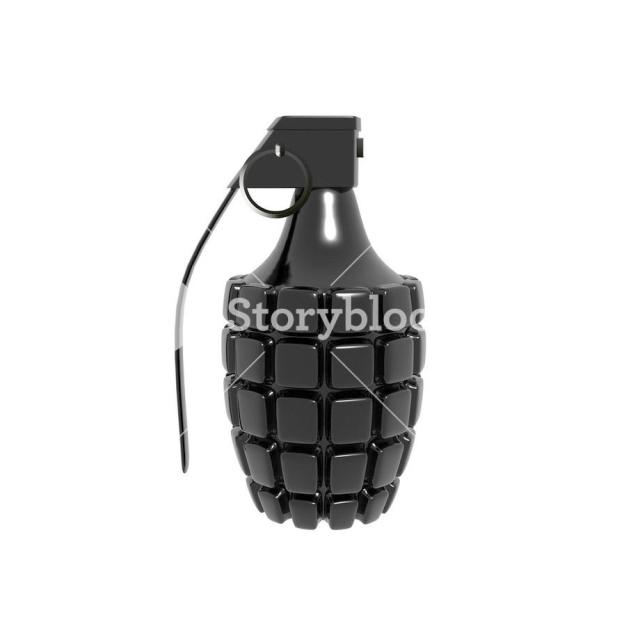grenade: (176, 115, 428, 531)
